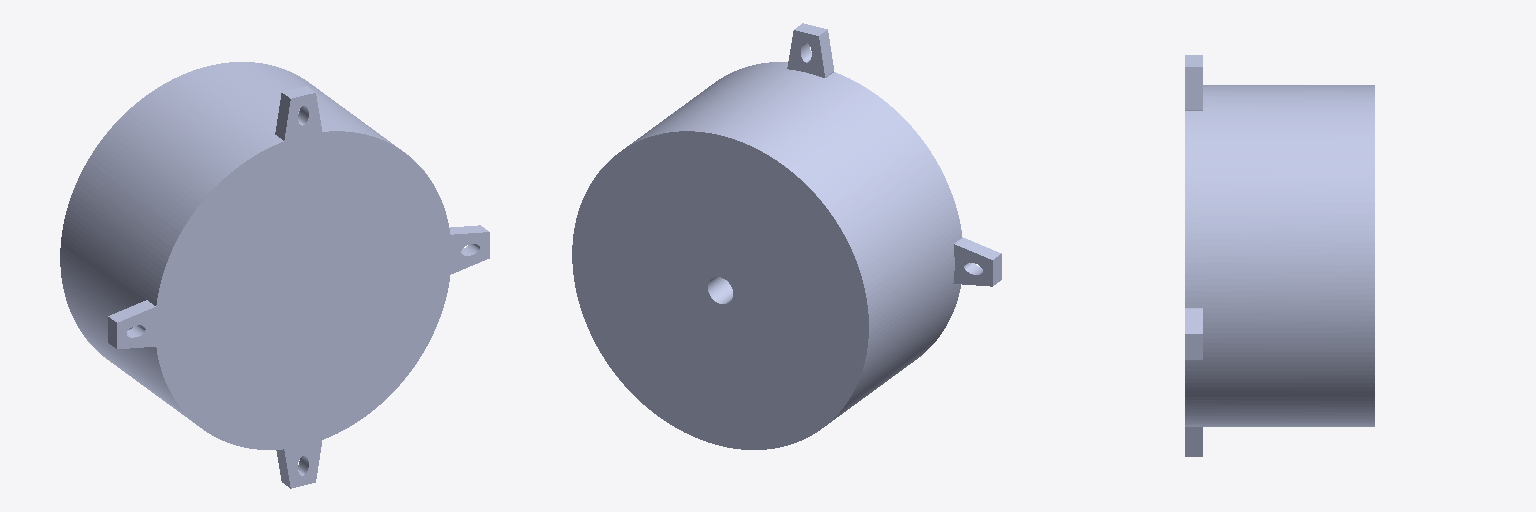
The picture shows the model from 3 angles: view 1: azimuth 30°, elevation 25°; view 2: azimuth 150°, elevation 25°; view 3: azimuth 270°, elevation 25°; orthographic projection.
Visible parts, largest first — view 1: Cut_Extrude1; view 2: Cut_Extrude1; view 3: Cut_Extrude1.
Boxes of the visible parts, box(x1,y1,x2,y2) form: Cut_Extrude1: box(60, 62, 489, 488); Cut_Extrude1: box(572, 23, 1001, 449); Cut_Extrude1: box(1185, 55, 1374, 456).
Bounding box in the file's own units: 46.46 × 46.46 × 20.47.